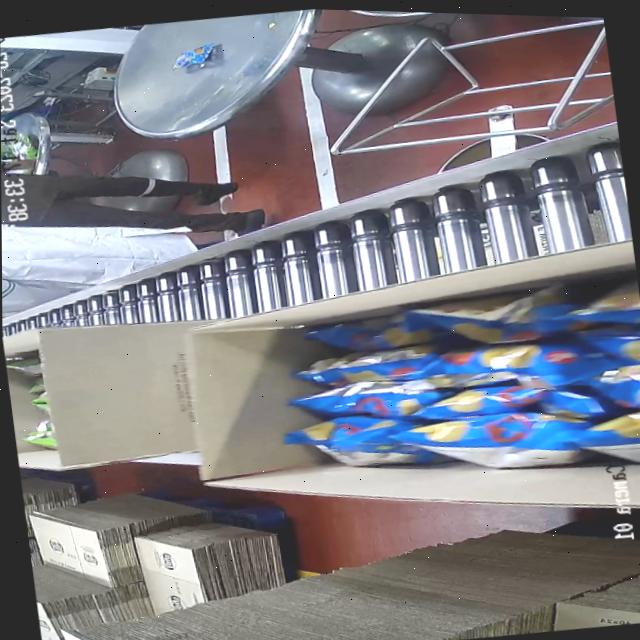PAPRIKA: (283, 274, 640, 488)
